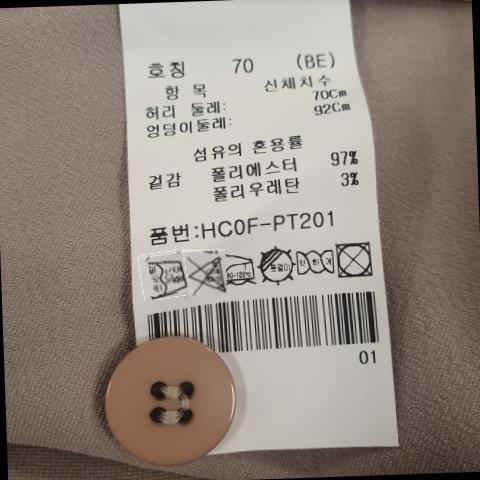DN_bleach: (191, 254, 227, 298)
DN_tumble_dry: (336, 238, 375, 281)
hand_wash: (145, 252, 187, 301)
iron_low: (223, 255, 258, 288)
line_dry_in_shade: (261, 245, 297, 285)
wring: (294, 242, 335, 281)
